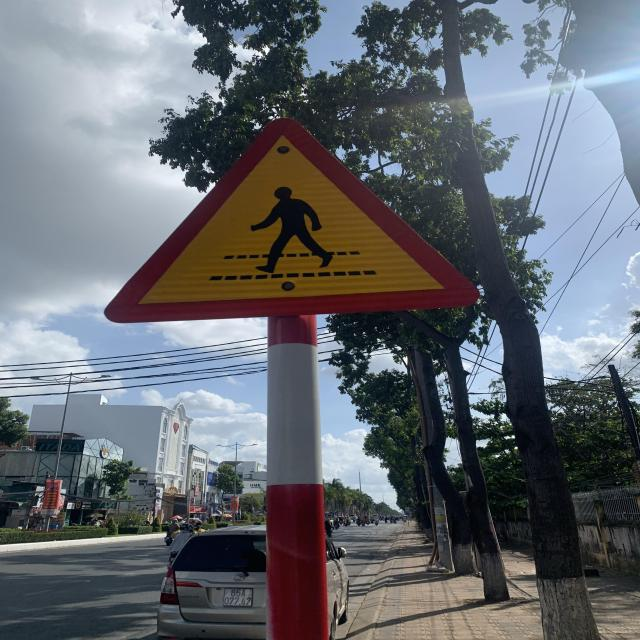Duong_Nguoi_Di_Bo_Sang_Ngang: (104, 114, 485, 320)
